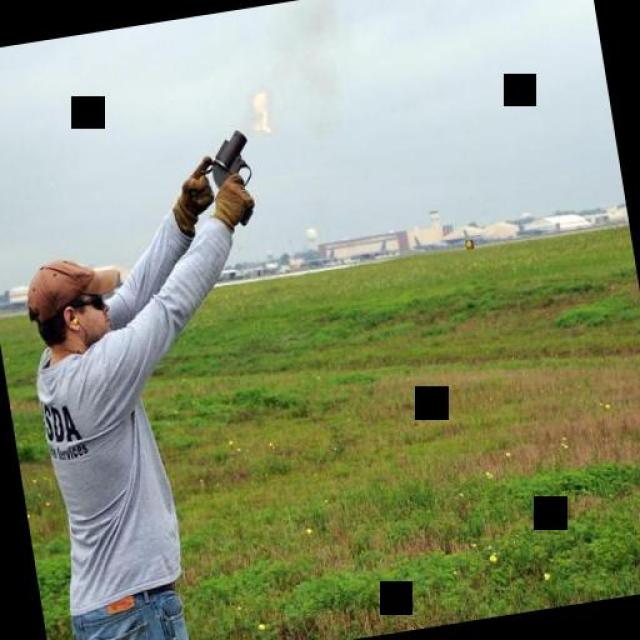gun: (186, 116, 268, 242)
